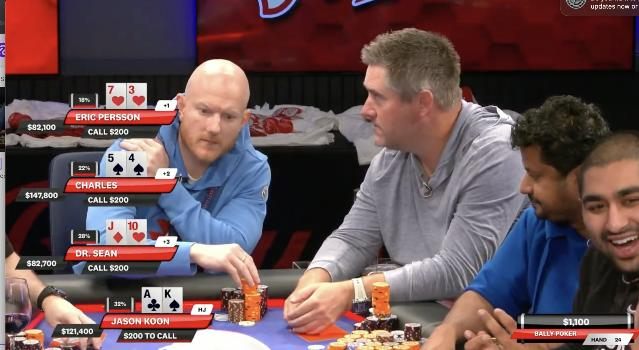10H: (128, 220, 146, 244)
3H: (128, 84, 146, 108)
4S: (128, 152, 146, 177)
5S: (107, 152, 126, 177)
7H: (107, 84, 126, 108)
AC: (142, 287, 162, 313)
JD: (107, 220, 126, 244)
KS: (164, 287, 182, 313)
